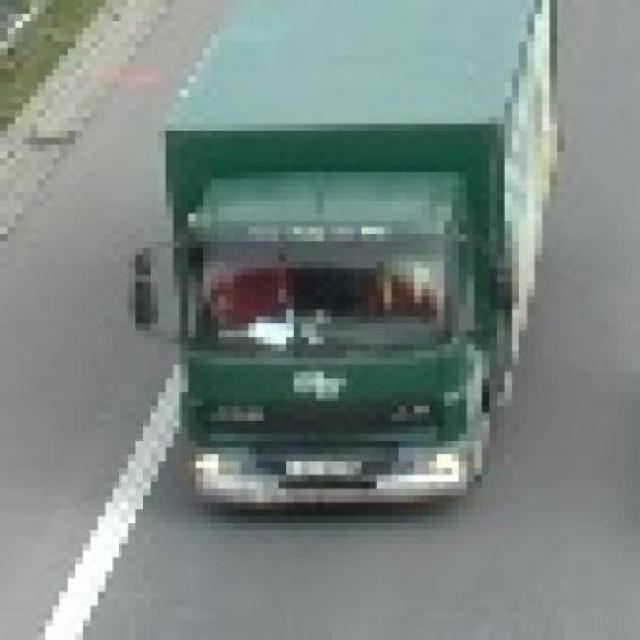truck: (144, 1, 573, 510)
